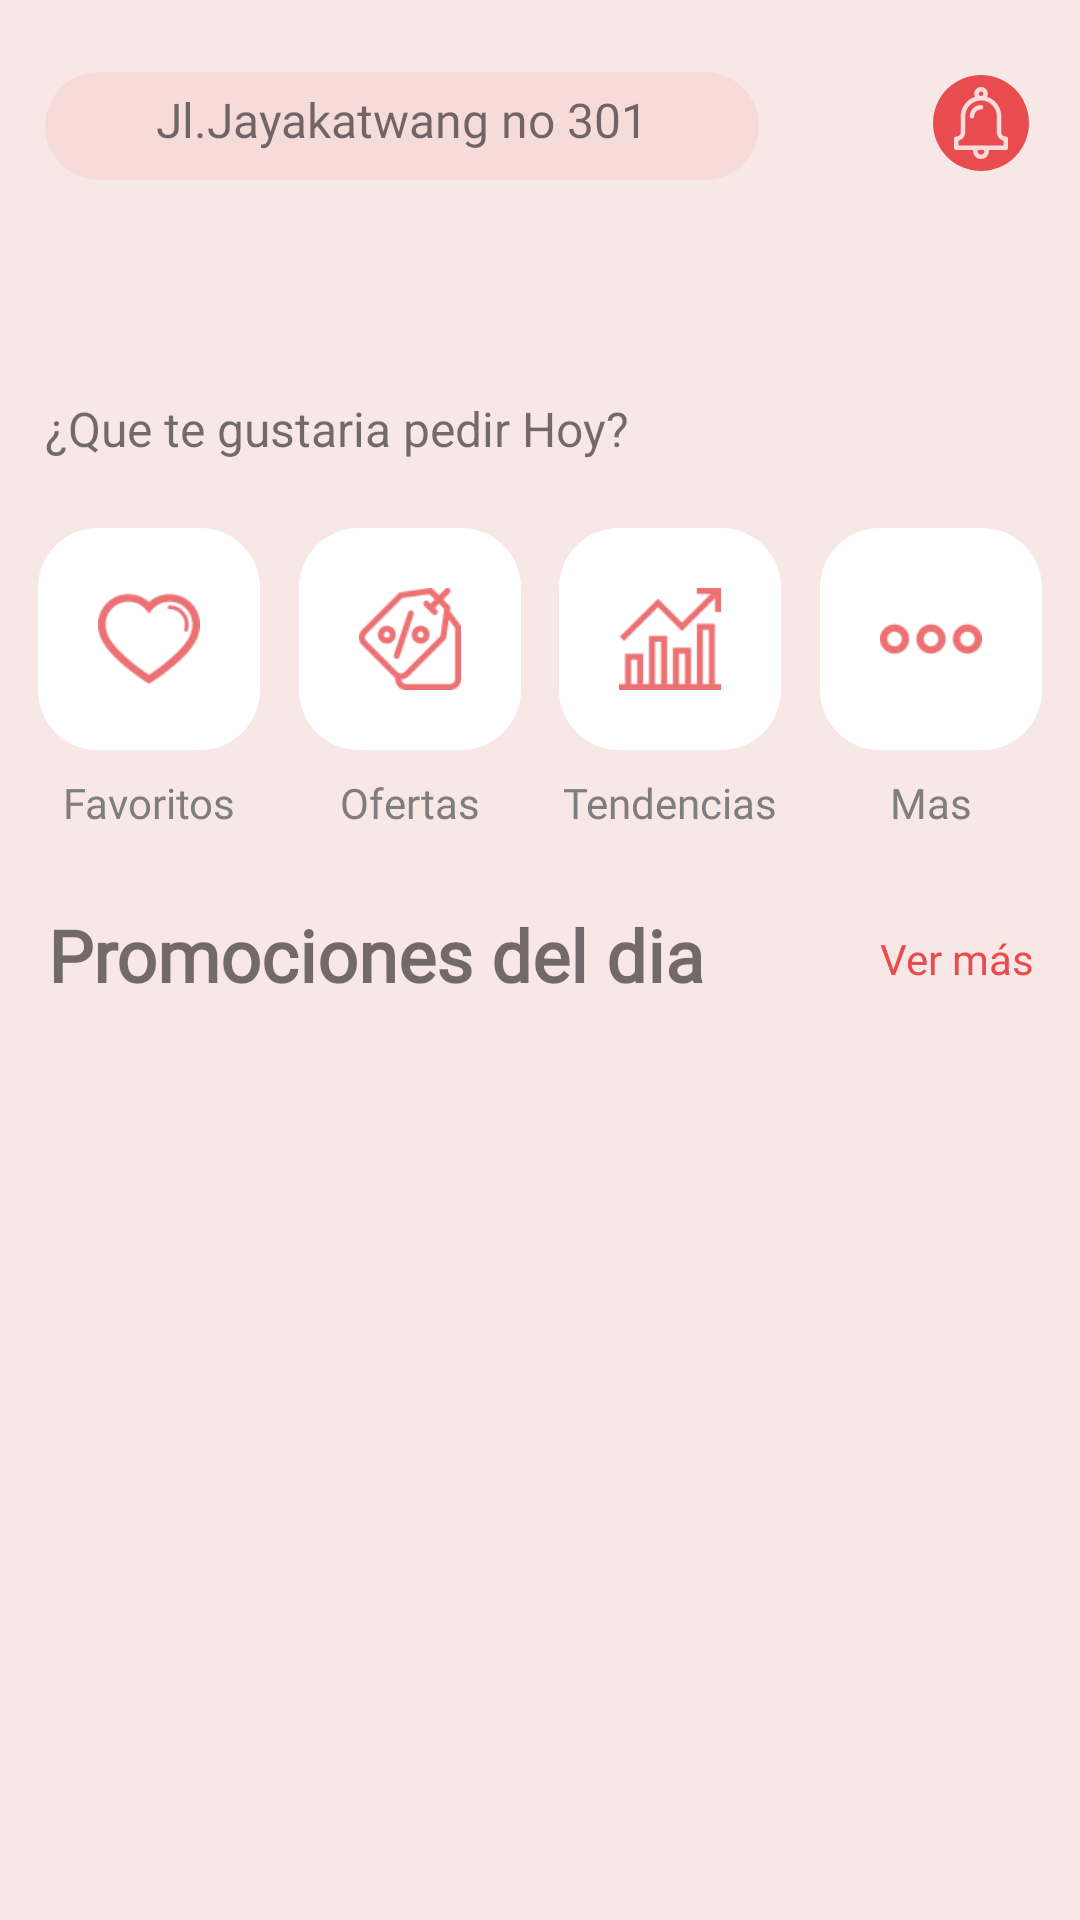

Screen size 1080 x 1920. Icon name, then its box in pixels as (x1, y1, x2, y2):
notification: (933, 75, 1029, 171)
